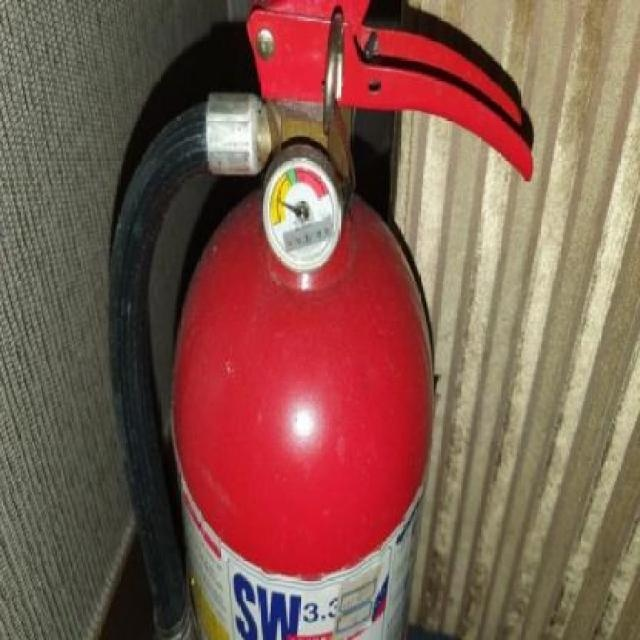fire extinguisher: (107, 0, 533, 640)
